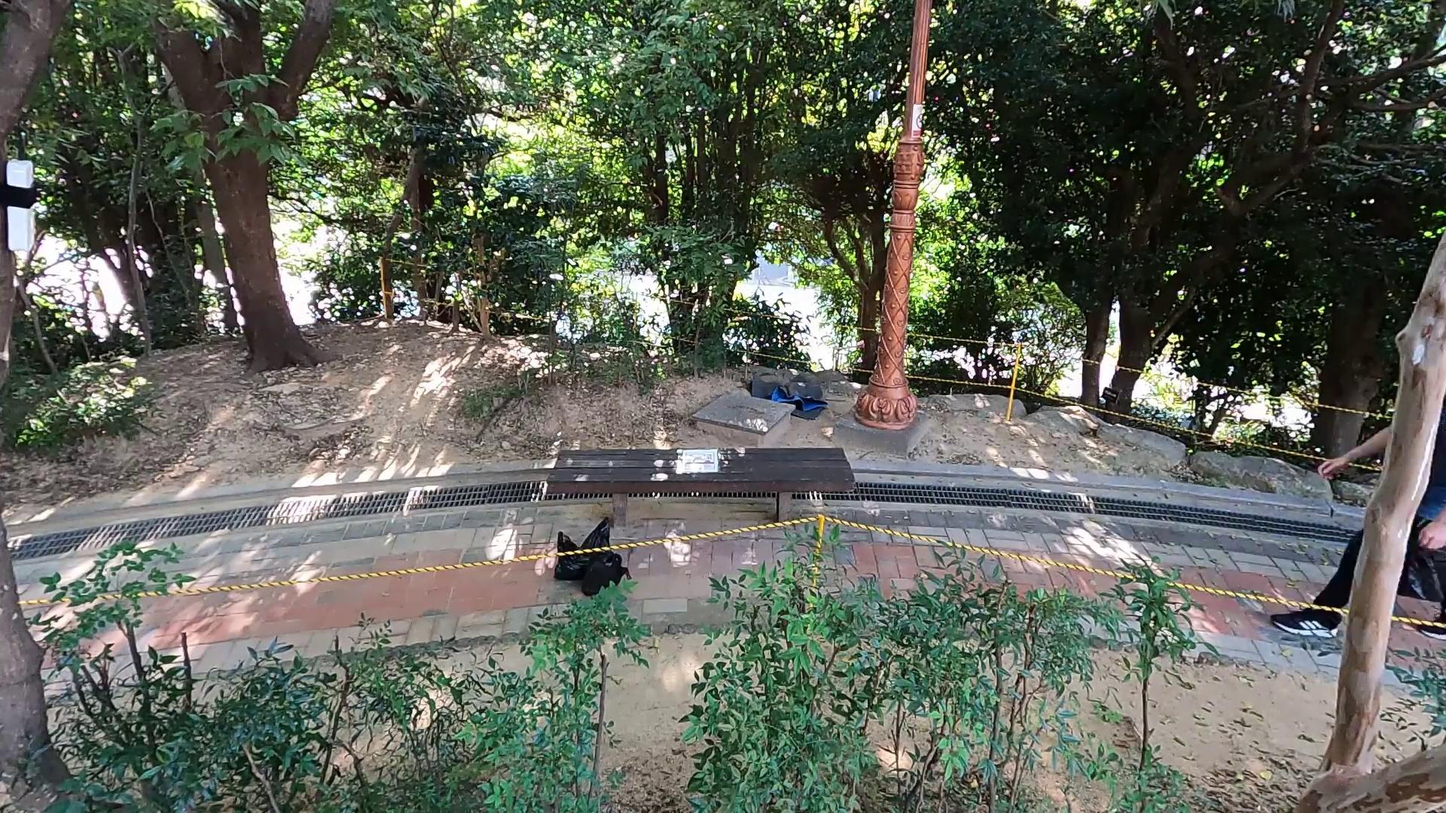trash: (743, 371, 830, 420), (571, 519, 624, 587), (571, 540, 633, 591), (548, 529, 593, 582)
